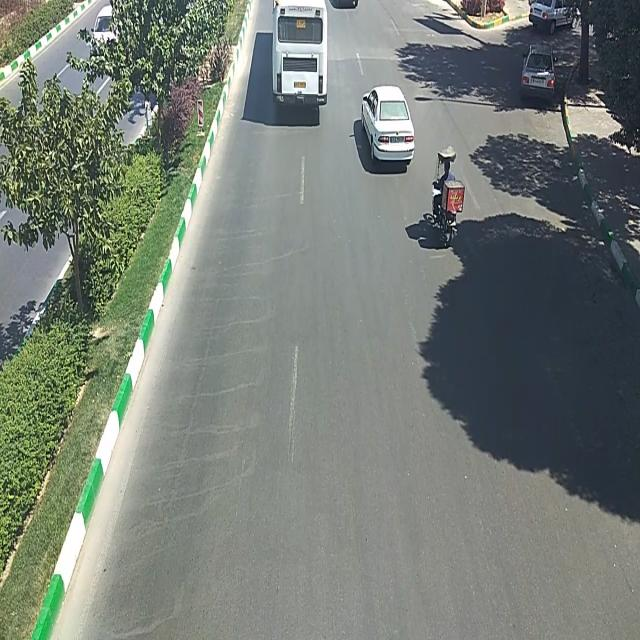bus: (269, 0, 329, 109)
car: (362, 91, 417, 165), (521, 41, 555, 111), (527, 0, 578, 34)
motor: (430, 147, 464, 253)
